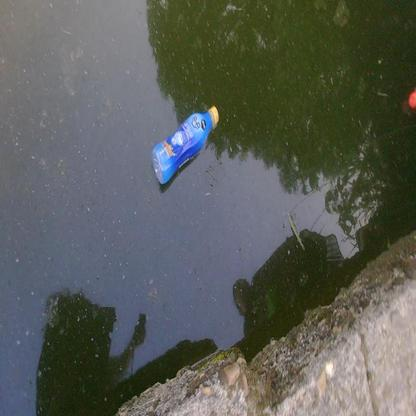plastic bottle: (152, 105, 217, 184)
